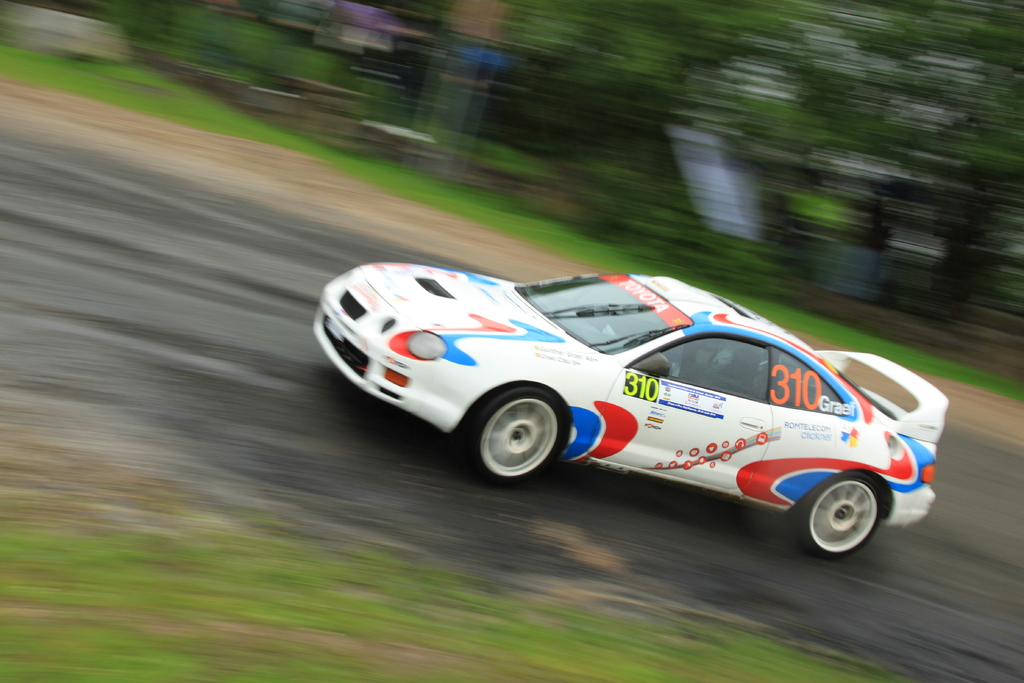Car: (316, 257, 946, 563)
